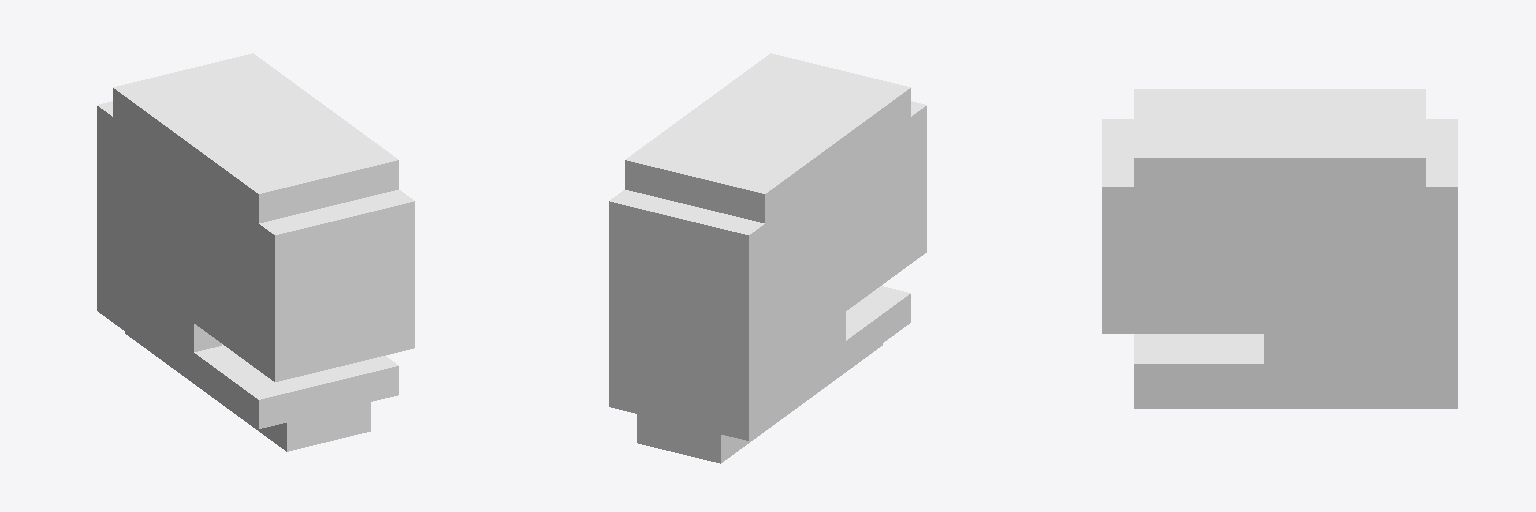
The model's file is 5.T-Rex_Right.obj.
The picture shows the model from 3 angles: view 1: azimuth 30°, elevation 25°; view 2: azimuth 150°, elevation 25°; view 3: azimuth 270°, elevation 25°; orthographic projection.
Visible parts, largest first — view 1: object 1; view 2: object 1; view 3: object 1.
Boxes of the visible parts, x1=… form: object 1: x1=97, y1=53, x2=414, y2=451; object 1: x1=609, y1=53, x2=926, y2=463; object 1: x1=1102, y1=89, x2=1457, y2=408.
Bounding box in the file's own units: 4 × 7.2 × 8.8.